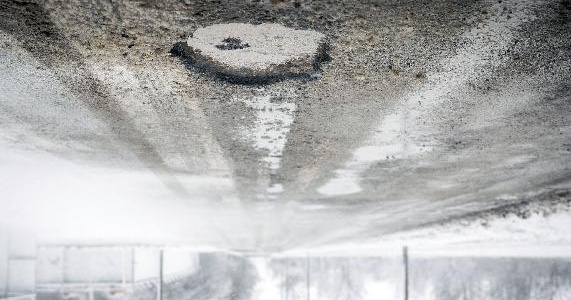pothole: (165, 20, 337, 92)
